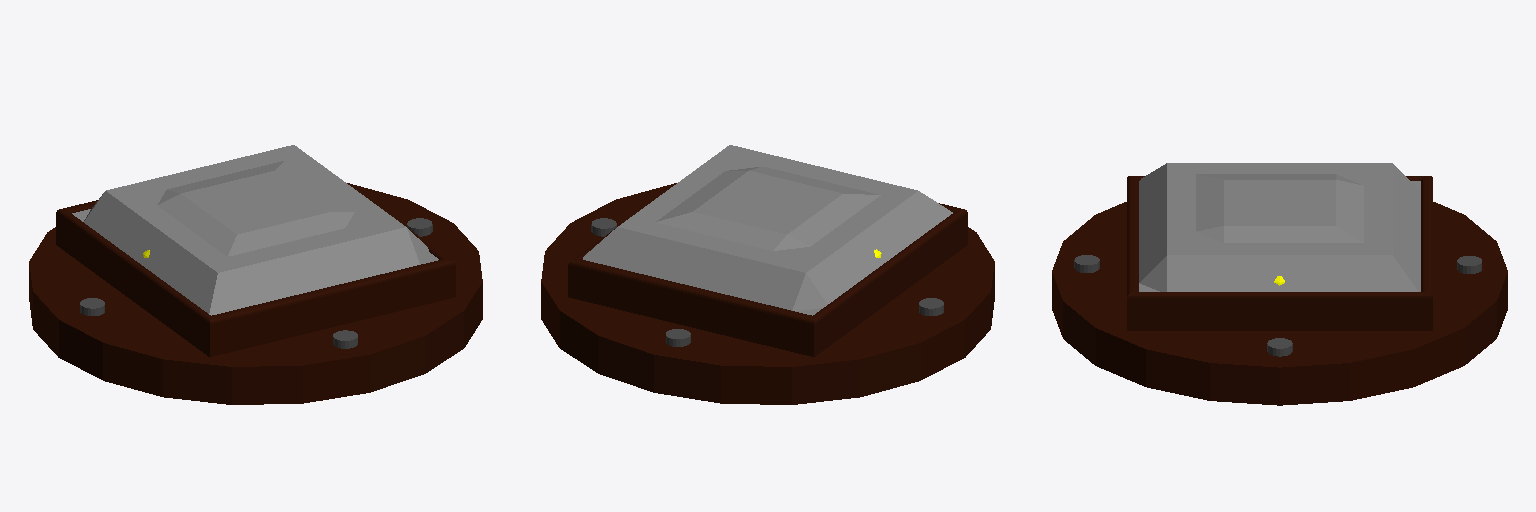
The model's file is Furniture_lightfixture2_CPG3.obj.
3 views of the same model, side by side, from view 1: azimuth 30°, elevation 25°; view 2: azimuth 150°, elevation 25°; view 3: azimuth 270°, elevation 25° (orthographic).
Visible parts, largest first — view 1: Lightring2; view 2: Lightring2; view 3: Lightring2.
Boxes of the visible parts, x1=… form: Lightring2: x1=29, y1=145, x2=482, y2=404; Lightring2: x1=541, y1=145, x2=994, y2=404; Lightring2: x1=1052, y1=163, x2=1507, y2=405.
Size of the model in its own units: 35.9 by 9.27 by 35.9.